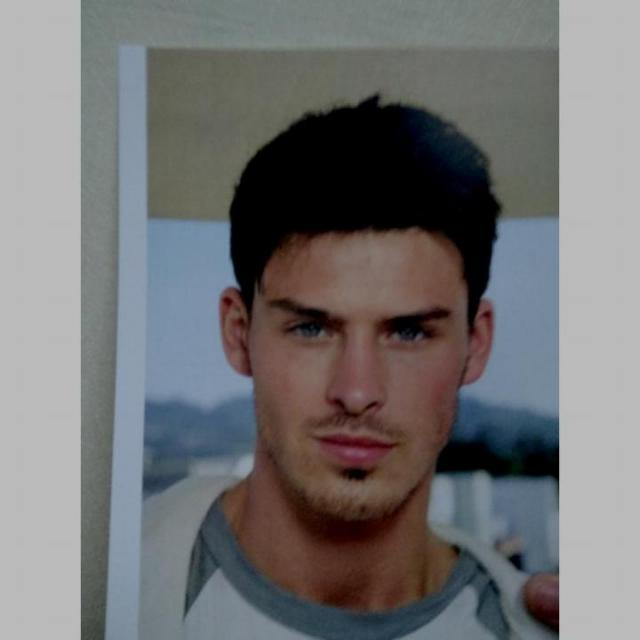photo: (105, 40, 557, 639)
